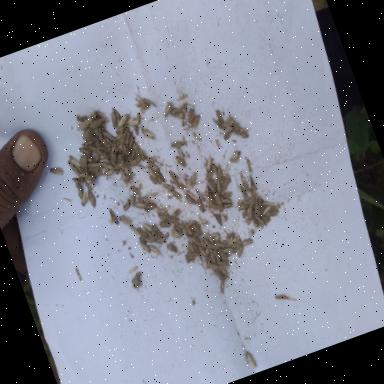pbw: (182, 106, 200, 126), (126, 270, 145, 288), (160, 100, 178, 118), (107, 206, 121, 228), (90, 144, 108, 161), (226, 148, 245, 164), (115, 112, 133, 128), (160, 208, 176, 226), (133, 144, 147, 164), (86, 186, 98, 209), (73, 180, 86, 200), (168, 176, 184, 192), (118, 213, 134, 229), (127, 223, 143, 239), (80, 125, 96, 141), (169, 187, 184, 204), (66, 157, 81, 174), (216, 276, 230, 294), (184, 186, 198, 204), (96, 108, 110, 126), (152, 168, 166, 185), (76, 191, 90, 208), (138, 238, 152, 255), (250, 198, 263, 216), (111, 106, 124, 124), (174, 154, 188, 170), (202, 156, 216, 172), (141, 126, 155, 142), (194, 186, 206, 204), (170, 138, 188, 150), (206, 176, 218, 194), (182, 220, 194, 238), (79, 155, 91, 173), (186, 172, 200, 187), (156, 231, 172, 244), (132, 199, 148, 212), (211, 188, 222, 206), (202, 181, 213, 199), (170, 206, 184, 220), (50, 164, 64, 178), (190, 114, 204, 128), (103, 129, 116, 144), (141, 219, 154, 234), (213, 178, 225, 194), (122, 165, 134, 181), (122, 130, 134, 146), (260, 198, 276, 210), (220, 117, 236, 129), (221, 126, 234, 140), (214, 237, 228, 250), (127, 192, 140, 206), (148, 159, 161, 173), (234, 244, 247, 258), (170, 226, 183, 240), (161, 180, 175, 193), (129, 183, 142, 197), (244, 156, 254, 174), (120, 148, 132, 163), (254, 213, 266, 228), (148, 242, 160, 257), (142, 201, 158, 212), (214, 166, 225, 182), (225, 235, 238, 248), (212, 116, 224, 130), (120, 199, 134, 211), (220, 190, 234, 202), (100, 160, 114, 172), (196, 198, 206, 214), (130, 122, 140, 138), (90, 124, 106, 134), (176, 144, 186, 160), (146, 164, 156, 180), (168, 168, 180, 181), (190, 235, 202, 248), (126, 136, 138, 149), (166, 242, 178, 255), (78, 144, 91, 156), (170, 110, 184, 121), (77, 154, 87, 169), (238, 184, 248, 199), (209, 241, 221, 253), (214, 108, 223, 124), (114, 130, 126, 142), (81, 140, 93, 152), (170, 106, 182, 118), (76, 171, 90, 181), (112, 160, 126, 170), (88, 160, 102, 170), (126, 118, 140, 128), (70, 163, 80, 177), (126, 158, 140, 168), (89, 172, 98, 187), (204, 170, 216, 181), (260, 205, 272, 216), (178, 101, 190, 112), (198, 243, 208, 256), (213, 249, 223, 262), (128, 147, 138, 160), (241, 236, 254, 246), (220, 196, 233, 206), (74, 266, 82, 282), (249, 176, 258, 190), (71, 175, 82, 186), (220, 266, 230, 278), (102, 167, 114, 177), (222, 246, 234, 256), (122, 172, 132, 184), (90, 164, 102, 174), (100, 138, 110, 150), (186, 218, 198, 228), (92, 152, 102, 164), (127, 264, 140, 273), (92, 169, 103, 179), (92, 134, 102, 145), (118, 166, 128, 177), (84, 181, 94, 192), (178, 91, 188, 101), (212, 233, 222, 243), (109, 151, 118, 162), (84, 138, 96, 146), (204, 238, 212, 250), (114, 140, 122, 152), (145, 154, 154, 164), (84, 154, 94, 163), (248, 205, 255, 217), (236, 198, 248, 205), (116, 152, 124, 162), (216, 259, 226, 267), (134, 112, 142, 122), (246, 208, 253, 219), (237, 202, 248, 209), (186, 246, 194, 255), (109, 146, 117, 155), (102, 146, 109, 156), (218, 192, 225, 202), (238, 205, 249, 211), (100, 156, 108, 164), (190, 252, 199, 258), (88, 170, 93, 175)
